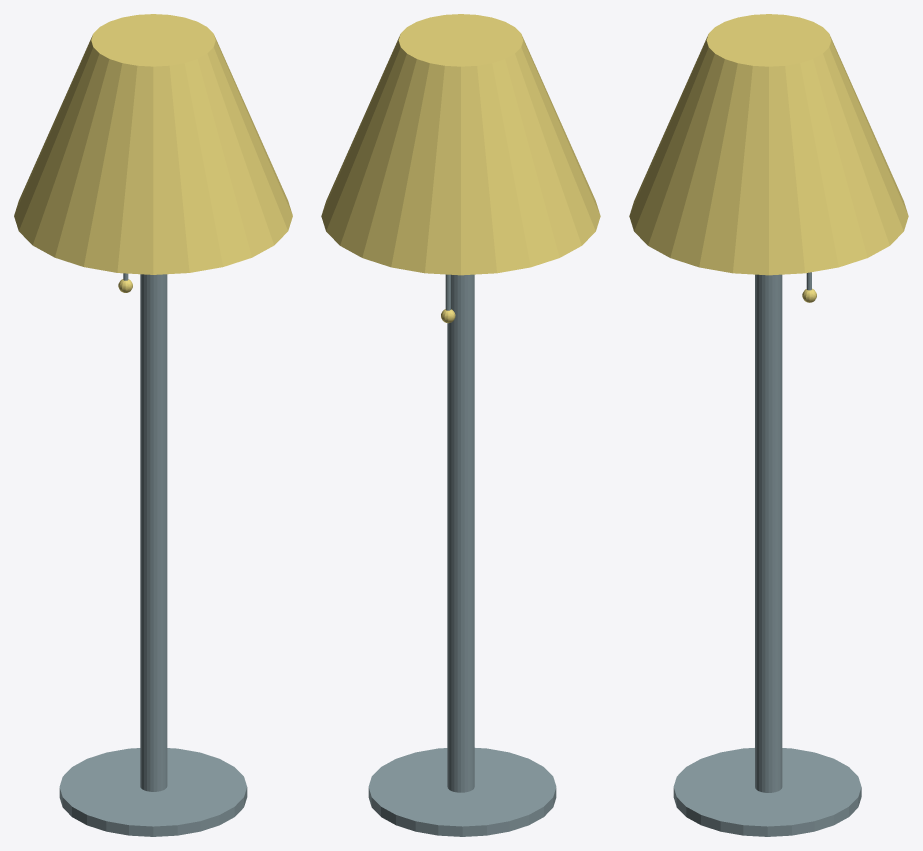
The model's file is Lampe_01.fbx.
The picture shows the model from 3 angles, left to right: view 1: azimuth 30°, elevation 25°; view 2: azimuth 150°, elevation 25°; view 3: azimuth 270°, elevation 25°; orthographic projection.
Parts seen in each view (by area): view 1: Lampe.003; view 2: Lampe.003; view 3: Lampe.003.
Part boxes in pixels (left/top/right/bottom): Lampe.003: left=14, top=14, right=292, bottom=836; Lampe.003: left=321, top=14, right=600, bottom=836; Lampe.003: left=629, top=14, right=908, bottom=836.
Size of the model in its own units: 200 by 598 by 200.
